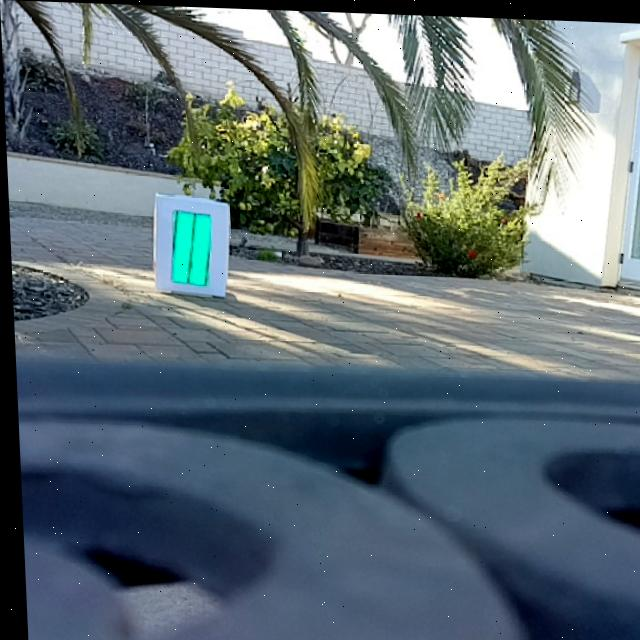led: (166, 207, 213, 285)
